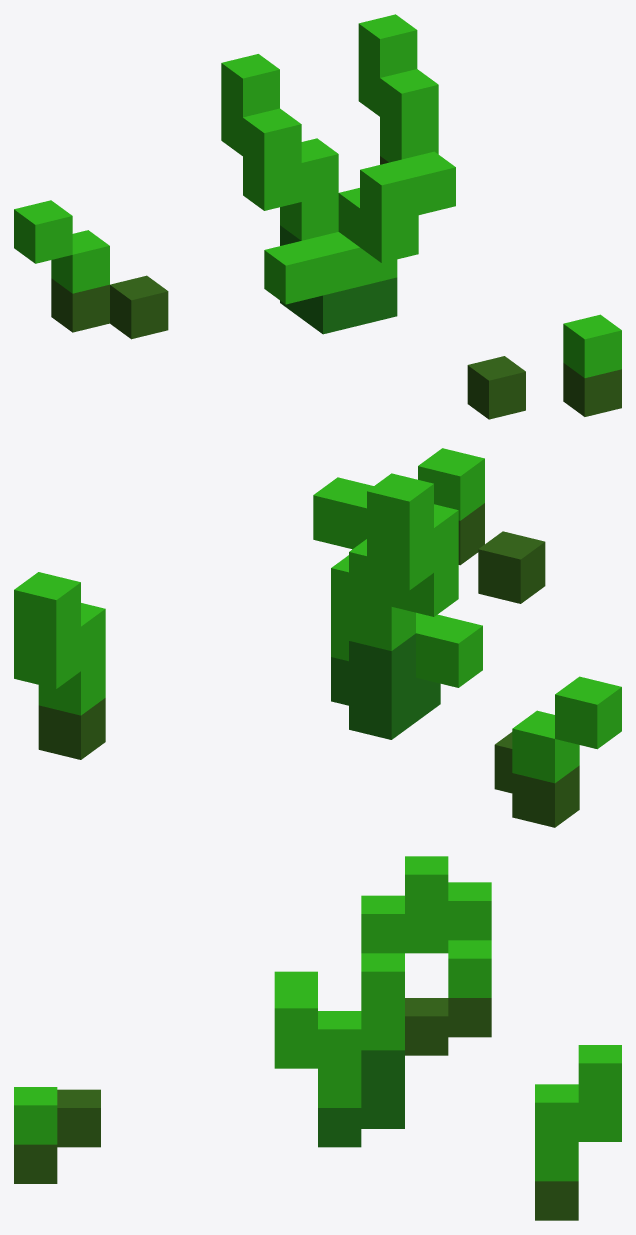
The model's file is Gras4.fbx.
3 views of the same model, one above another, from view 1: azimuth 30°, elevation 25°; view 2: azimuth 150°, elevation 25°; view 3: azimuth 270°, elevation 25° (orthographic). The views are drawn at different scales.
Parts seen in each view (by area): view 1: GrasSprietje4:GrasSprietje4; view 2: GrasSprietje4:GrasSprietje4; view 3: GrasSprietje4:GrasSprietje4.
Part boxes in pixels (x1,y1,x2,y2): GrasSprietje4:GrasSprietje4: (14, 14, 621, 419); GrasSprietje4:GrasSprietje4: (14, 448, 621, 827); GrasSprietje4:GrasSprietje4: (14, 856, 621, 1220).
Size of the model in its own units: 12 by 6 by 14.
Materials: 1 (1 with a texture image).
